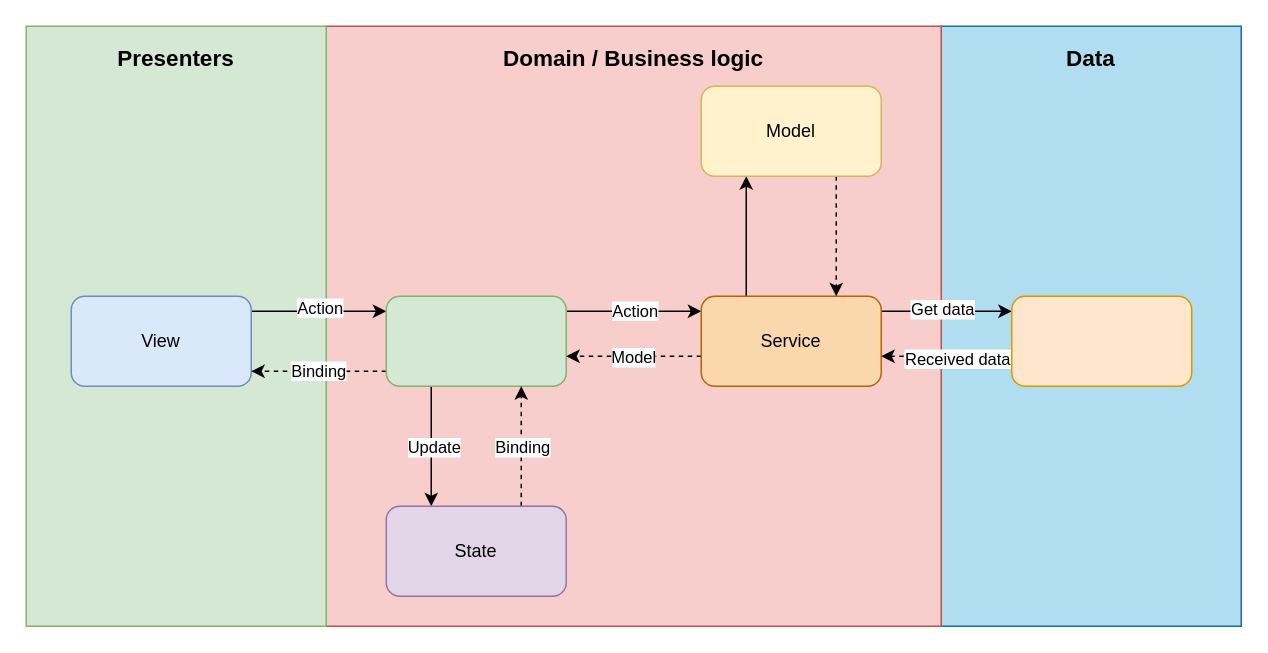
The diagram is 1268 pixels wide and 653 high, and some of its shapes have lost their labels. Each missing label, with the centre of its shape:
"Repository" goes at point (1101, 340).
"ViewModel" goes at point (475, 340).
